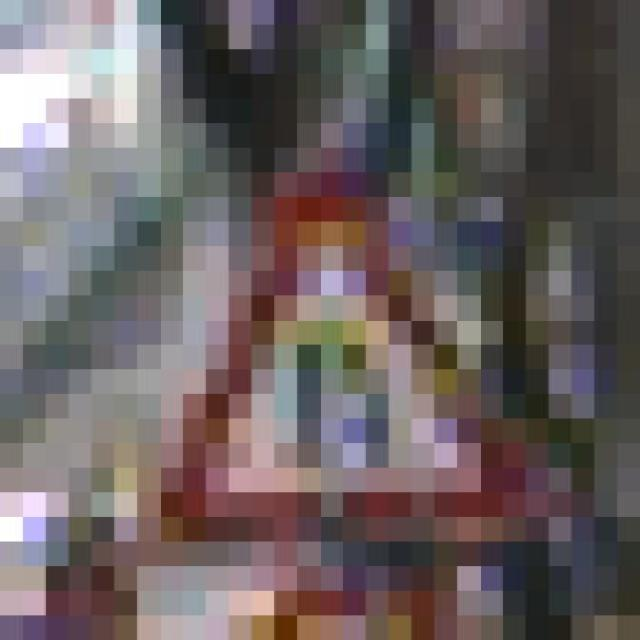-Road narrows on right: (114, 173, 526, 542)
